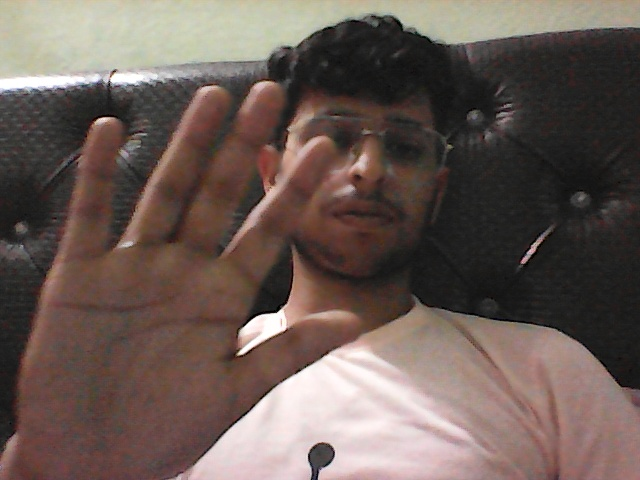hello: (26, 66, 383, 480)
